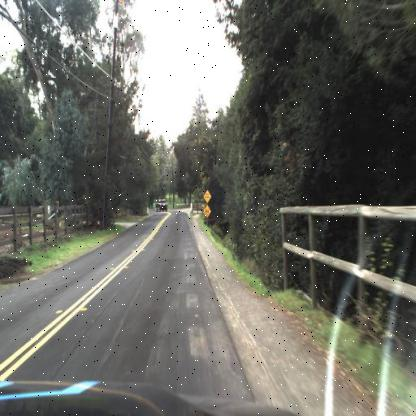car: (156, 200, 167, 214)
